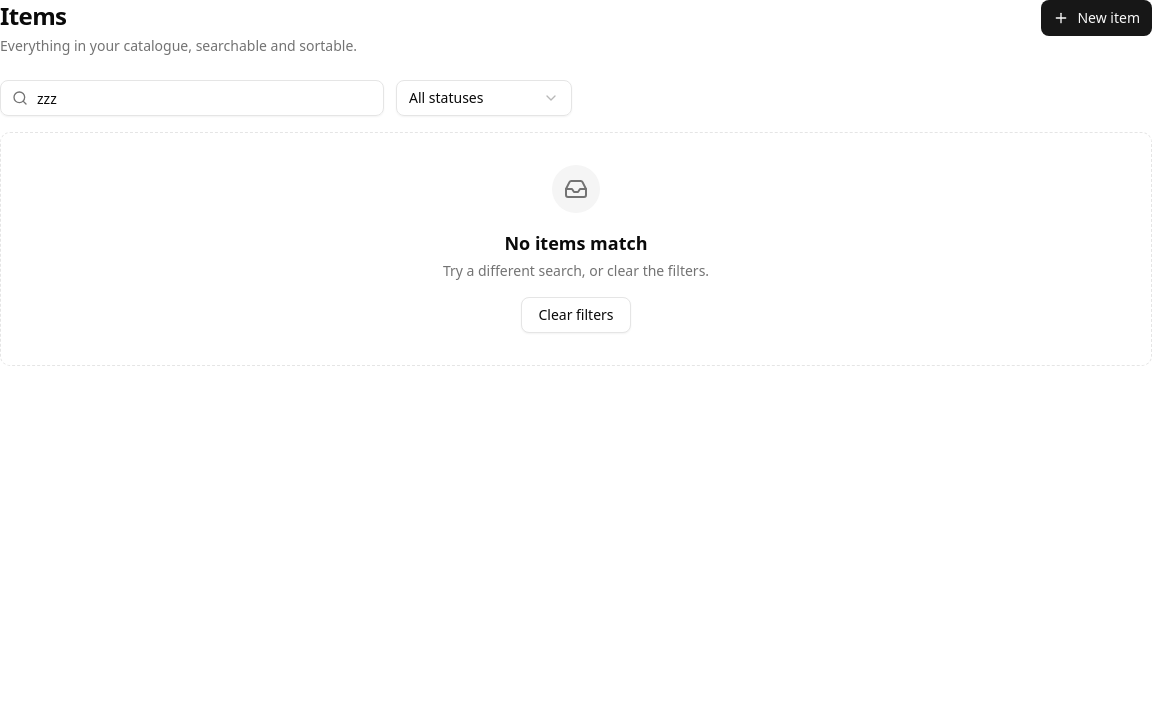
ItemsListPage › cancels a pending search when the filters are cleared
Type "x" into the search field named "Search items".
click(192, 98); type("x")  # box [0,80,384,116]
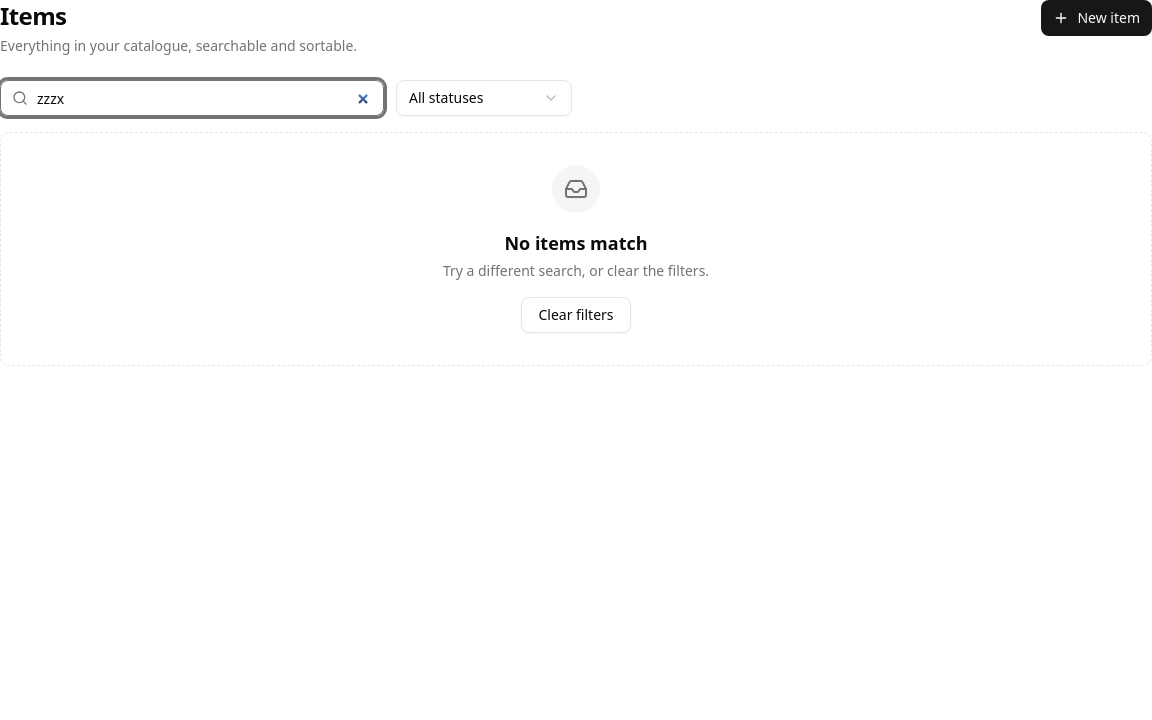
Click the button "Clear filters".
click(576, 315)  # box [521,297,630,333]
(page scrolled)
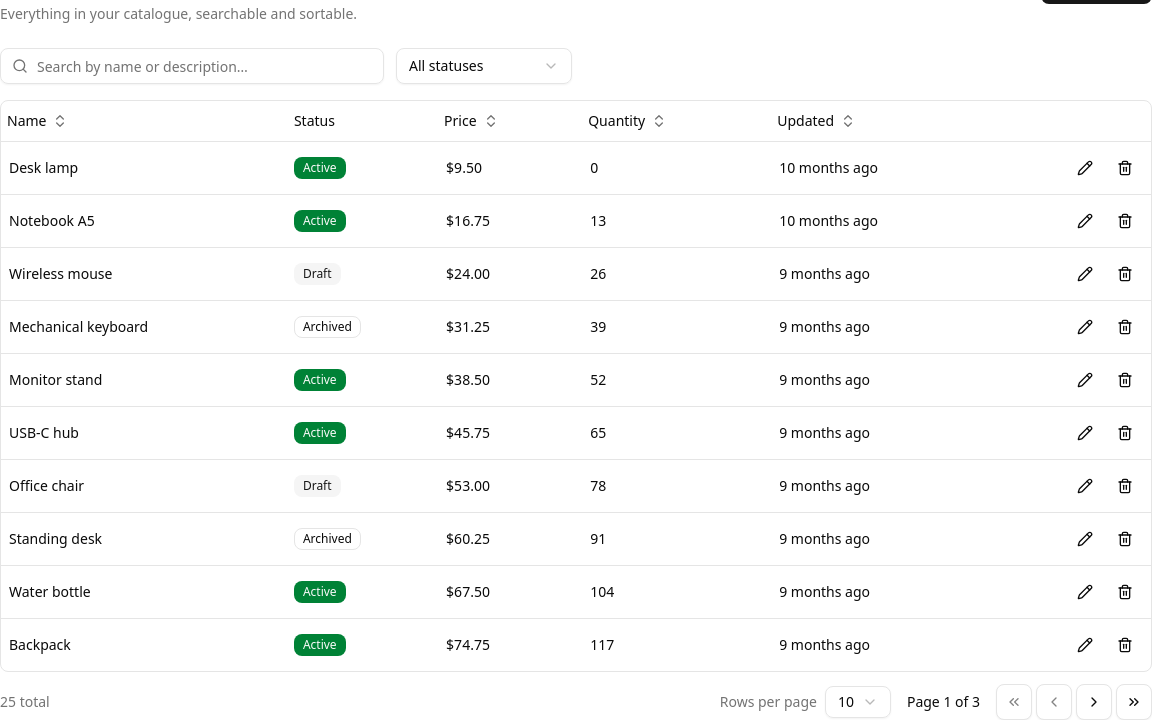
Now the search field named "Search items" is empty, box [0,48,384,84]
Now the text "25 total" is shown, box [0,692,50,712]
